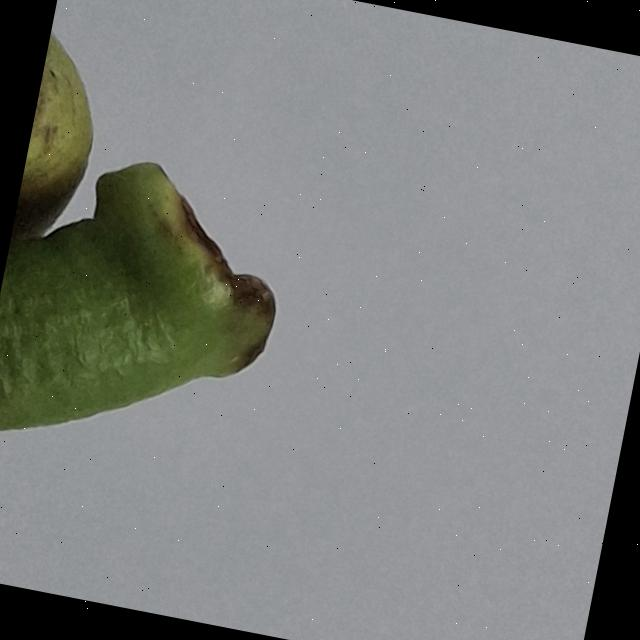mangosteen: (0, 0, 391, 636)
